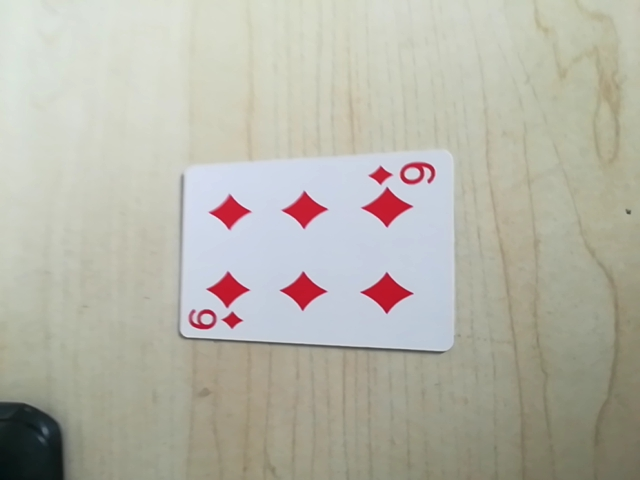fk 6: (365, 156, 444, 191), (186, 306, 248, 336)
